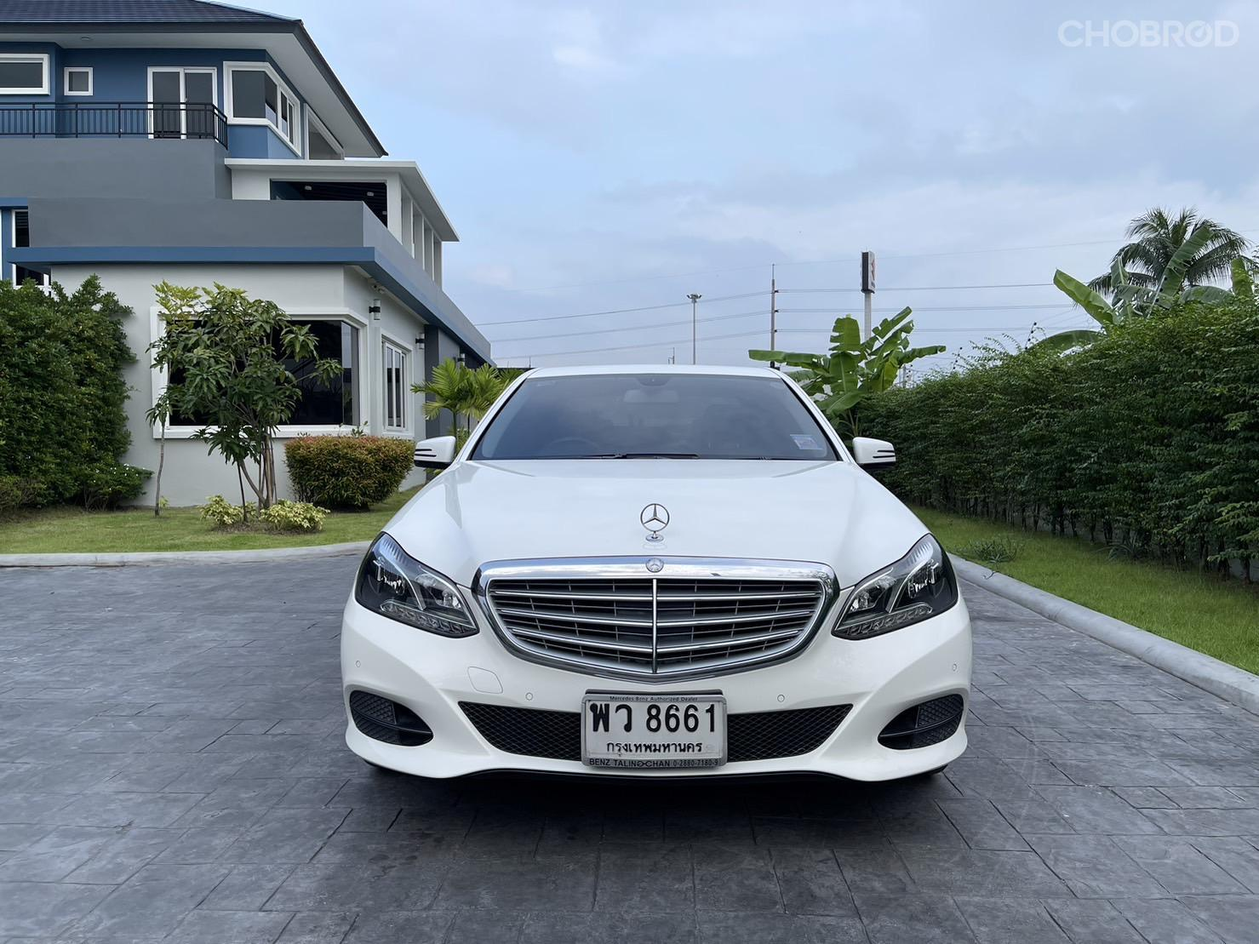license-plate: (577, 685, 731, 770)
